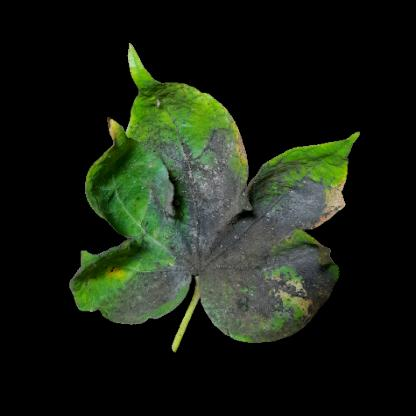curl_stage1: (184, 100, 218, 137), (103, 264, 129, 284)
sooty: (164, 190, 314, 294)
